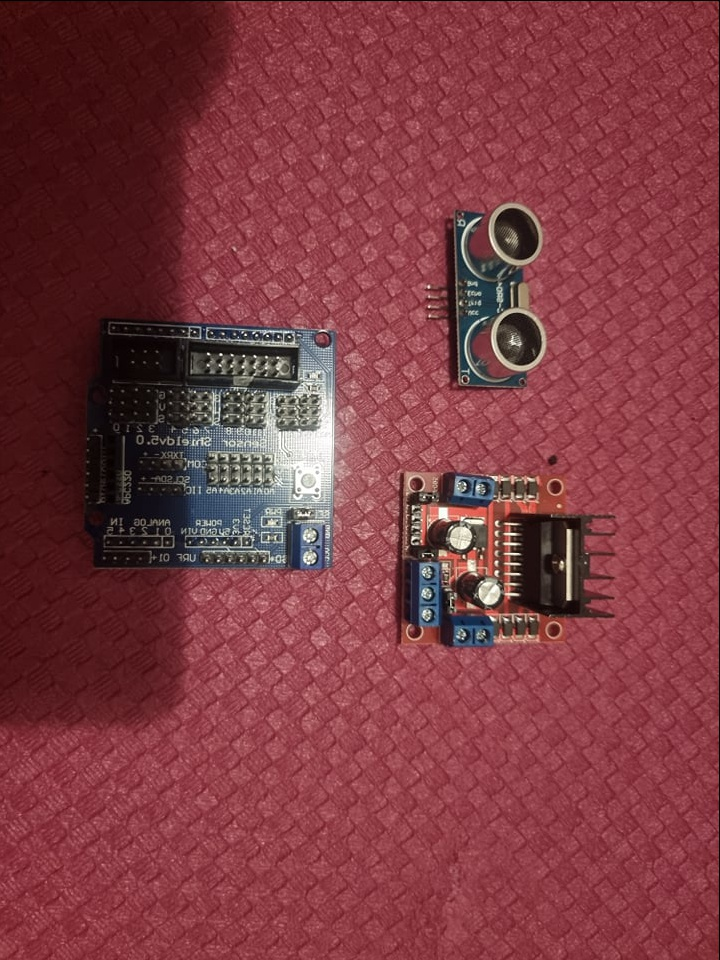5V EXPANSION: (86, 319, 343, 574)
MOTOR: (397, 464, 616, 653)
SENSOR: (455, 204, 543, 384)
